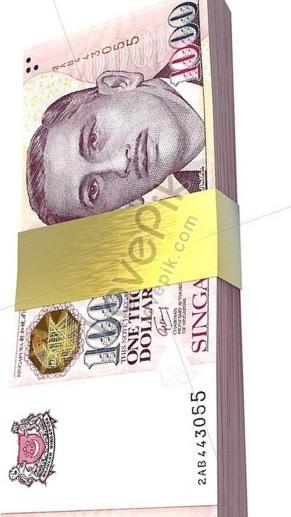1000SingaporeDollar: (10, 0, 208, 487)
